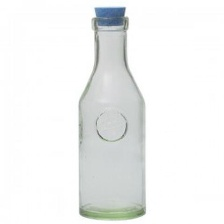bottle: (72, 3, 157, 223)
